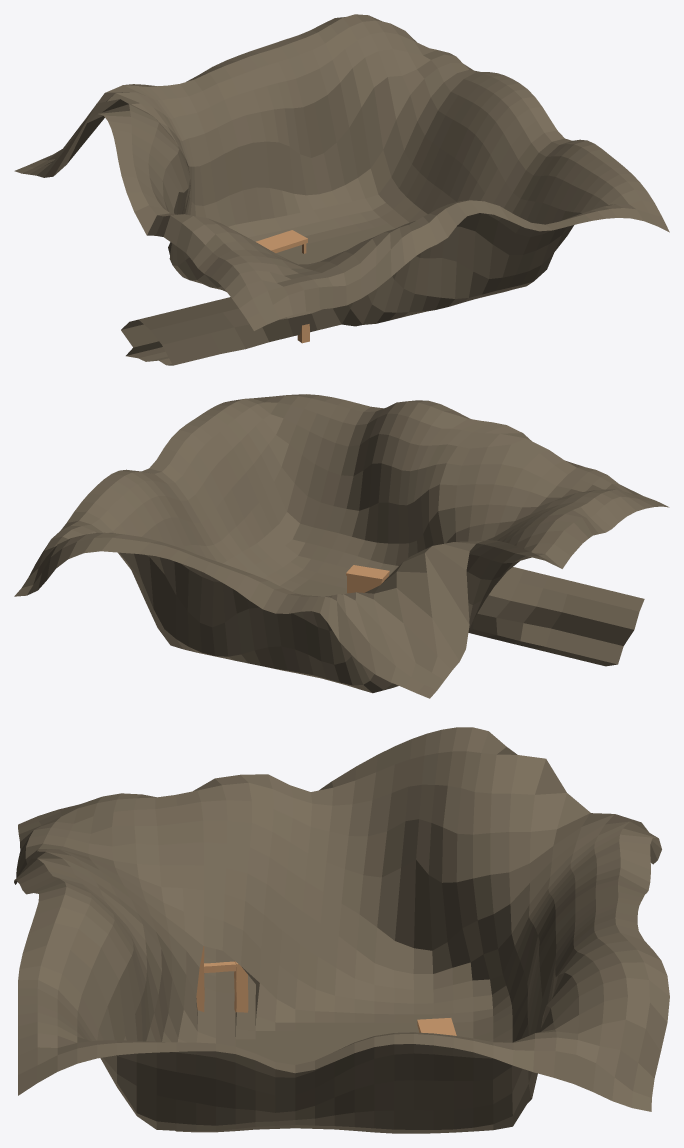
The model's file is map.fbx.
3 renders of one model, top to bottom at view 1: azimuth 30°, elevation 25°; view 2: azimuth 150°, elevation 25°; view 3: azimuth 270°, elevation 25°, orthographic. The views are drawn at different scales.
Visible parts, largest first — view 1: map, table; view 2: map, Cube.008, chest; view 3: map, Cube.005.
Part boxes in pixels (bbox=[...]): map: bbox=[14, 14, 669, 365]; table: bbox=[256, 230, 307, 253]; map: bbox=[14, 394, 669, 698]; Cube.008: bbox=[346, 565, 389, 581]; chest: bbox=[347, 574, 388, 593]; map: bbox=[14, 727, 669, 1133]; Cube.005: bbox=[234, 961, 248, 1012].
Size of the model in its own units: 4141 by 1466 by 3825.
